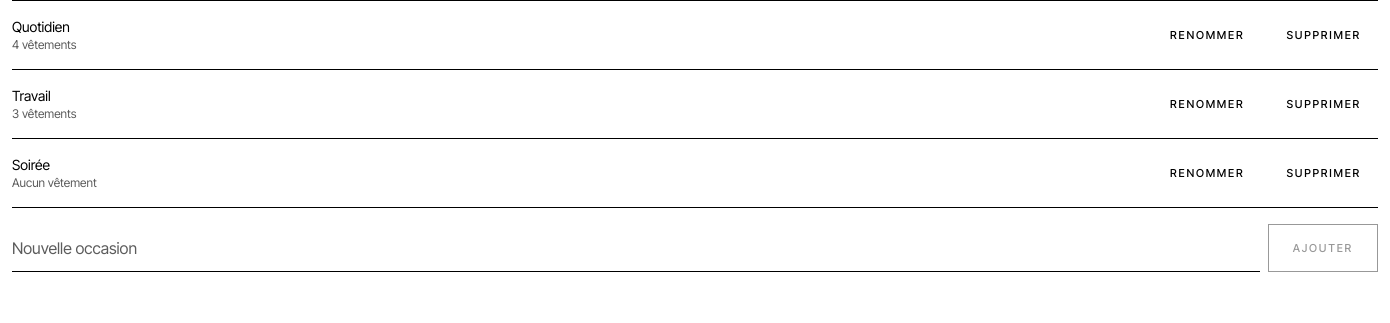
it: OccasionsManager › adds an occasion and reports duplicates
Type "Plage" into the field labelled "Nouvelle occasion" at (636, 248), box [12,224,1260,272]
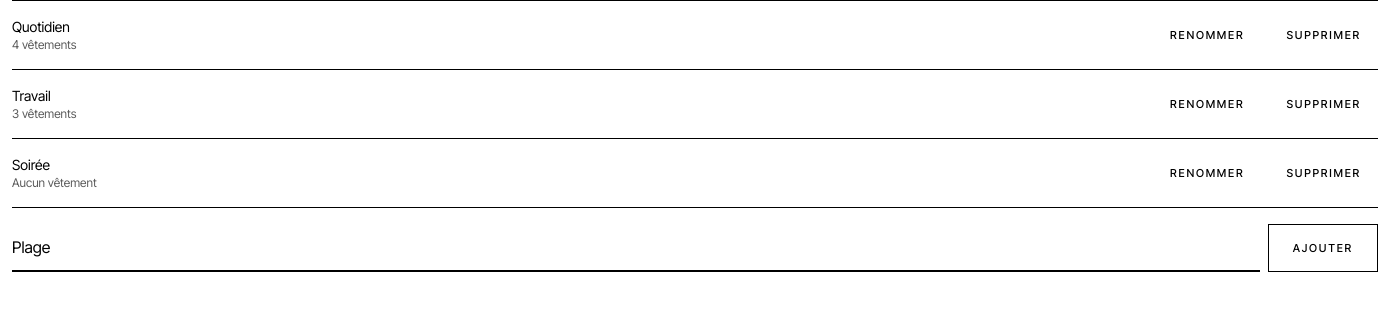
Click the button "Ajouter" at (1323, 248), box [1268,224,1378,272]
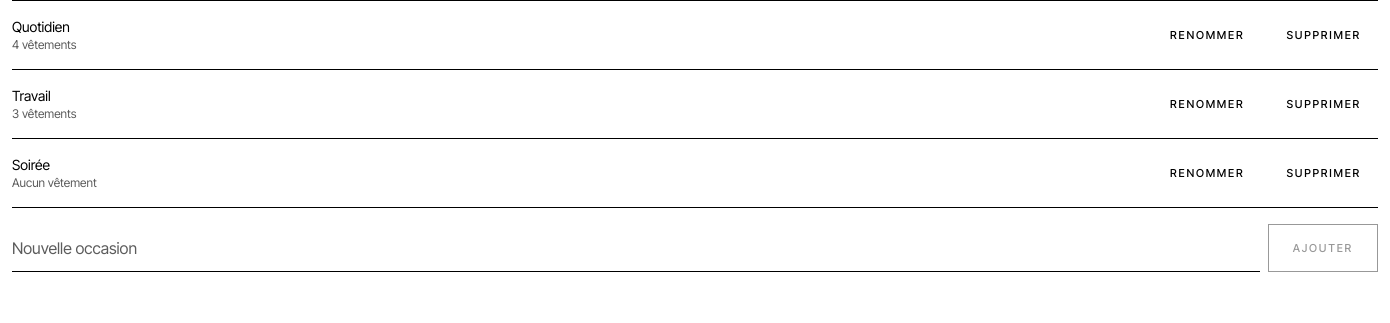
Result: the field labelled "Nouvelle occasion" is empty
Type "travail" into the field labelled "Nouvelle occasion" at (636, 248), box [12,224,1260,272]
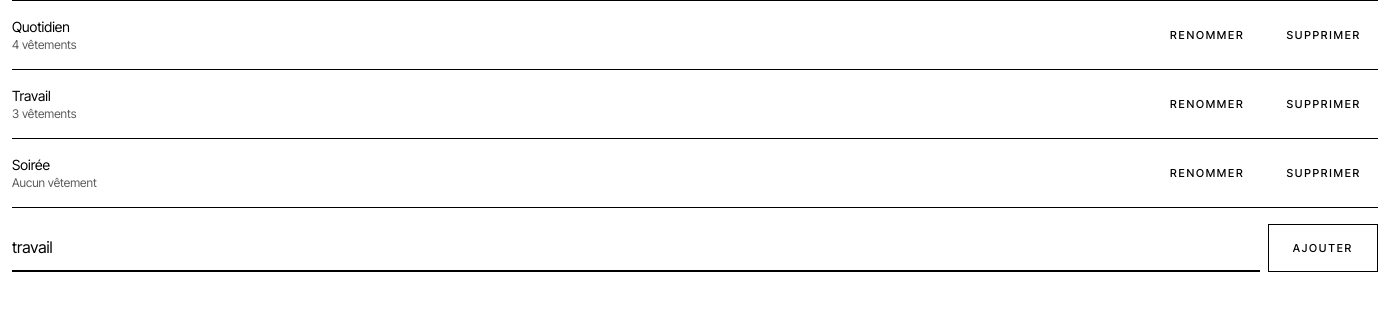
Click the button "Ajouter" at (1323, 248), box [1268,224,1378,272]
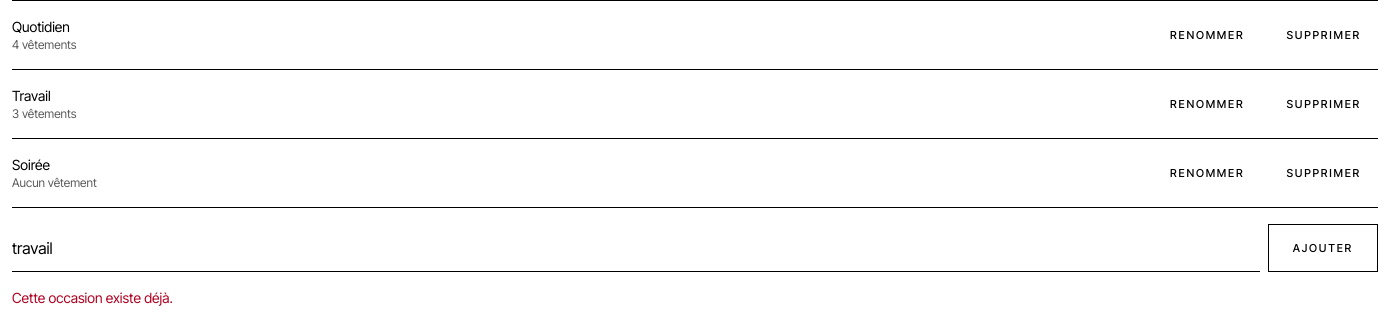
Result: the message reads "Cette occasion existe déjà." at [12,289,173,306]
